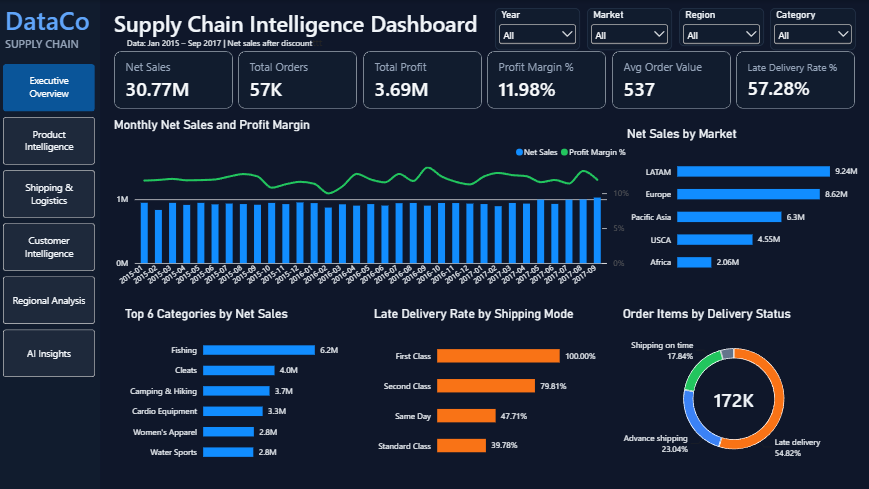

What the dashboard file says about the page in this screenshot:
{"tool":"powerbi","page":{"name":" Executive Overview","canvas":[1280,720],"ordinal":0},"visuals":[{"type":"shape","box":[0,0,150,720],"z":0},{"type":"textbox","box":[10,4.4,136.1,62.6],"z":1000},{"type":"textbox","box":[10,52.9,136.1,41],"z":2000},{"type":"textbox","box":[170,12,600,50],"z":3000},{"type":"cardVisual","fields":{"Data":["Table.Total Orders"]},"box":[353,75,175,85],"z":4000},{"type":"cardVisual","fields":{"Data":["Table.Total Profit"]},"box":[536,75,175,85],"z":5000},{"type":"cardVisual","fields":{"Data":["Table.Profit Margin %"]},"box":[719,75,175,85],"z":6000},{"type":"cardVisual","fields":{"Data":["Table.Avg Order Value"]},"box":[902,75,175,85],"z":7000},{"type":"cardVisual","fields":{"Data":["Table.Late Delivery Rate %"]},"box":[1085,75,175,85],"z":8000},{"type":"cardVisual","fields":{"Data":["Table.Net Sales"]},"box":[170,75,175,85],"z":9000},{"type":"slicer","title":"Year","fields":{"Values":["Calender.Year"]},"box":[730.3,11.8,124.9,61.7],"z":10000},{"type":"slicer","title":"Year","fields":{"Values":["DataCo.Market"]},"box":[865.5,11.8,124.9,61.7],"z":11000},{"type":"slicer","title":"Year","fields":{"Values":["DataCo.Order Region"]},"box":[1000.7,11.8,124.9,55.8],"z":12000},{"type":"slicer","title":"Year","fields":{"Values":["DataCo.Category Name"]},"box":[1134.4,11.8,126.4,61.7],"z":13000},{"type":"lineClusteredColumnComboChart","title":"Monthly Net Sales and Profit Margin","fields":{"Category":["Calendar.Year Month"],"Y":["Table.Net Sales"],"Y2":["Table.Profit Margin %"]},"box":[170.4,172,756.7,252.7],"z":14000},{"type":"clusteredBarChart","title":"Net Sales by Market","fields":{"Category":["DataCo.Market"],"Y":["Table.Net Sales"]},"box":[908.8,172,371.2,252],"z":15000},{"type":"pageNavigator","box":[7.3,94,135,462.9],"z":16000},{"type":"clusteredBarChart","title":"Top 6 Categories by Net Sales","fields":{"Y":["Table.Net Sales"],"Category":["DataCo.Category Name"]},"box":[170,436,358,264],"z":17000},{"type":"clusteredBarChart","title":"Late Delivery Rate by Shipping Mode","fields":{"Category":["DataCo.Shipping Mode"],"Y":["Table.Late Delivery Rate %"]},"box":[536,436,358,264],"z":18000},{"type":"donutChart","fields":{"Category":["DataCo.Delivery Status"],"Y":["Table.Order Items"]},"box":[902,436,358,264],"z":19000},{"type":"textbox","box":[189.6,52.9,338,30.9],"z":20000}]}

Visuals, with their boxes in screenshot pixels (x1, y1, x2, y2), scaled from the page's 1280x720 canvas onto the 869x489 screenshot:
shape: (0, 0, 102, 488)
textbox: (7, 3, 99, 46)
textbox: (7, 36, 99, 64)
textbox: (115, 8, 523, 42)
cardVisual - Table.Total Orders: (240, 51, 358, 109)
cardVisual - Table.Total Profit: (364, 51, 483, 109)
cardVisual - Table.Profit Margin %: (488, 51, 607, 109)
cardVisual - Table.Avg Order Value: (612, 51, 731, 109)
cardVisual - Table.Late Delivery Rate %: (737, 51, 855, 109)
cardVisual - Table.Net Sales: (115, 51, 234, 109)
"Year" slicer: (496, 8, 581, 50)
"Year" slicer: (588, 8, 672, 50)
"Year" slicer: (679, 8, 764, 46)
"Year" slicer: (770, 8, 856, 50)
"Monthly Net Sales and Profit Margin" lineClusteredColumnComboChart: (116, 117, 629, 288)
"Net Sales by Market" clusteredBarChart: (617, 117, 868, 288)
pageNavigator: (5, 64, 97, 378)
"Top 6 Categories by Net Sales" clusteredBarChart: (115, 296, 358, 475)
"Late Delivery Rate by Shipping Mode" clusteredBarChart: (364, 296, 607, 475)
donutChart - DataCo.Delivery Status x Table.Order Items: (612, 296, 855, 475)
textbox: (129, 36, 358, 57)
